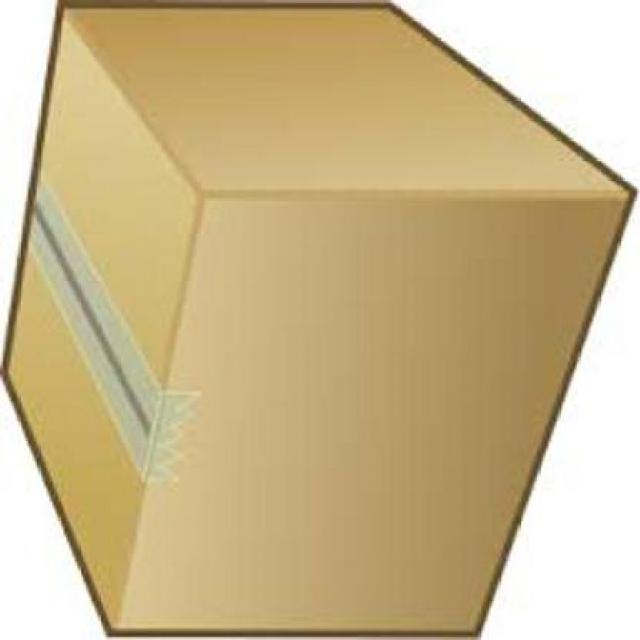normal: (9, 1, 640, 637)
